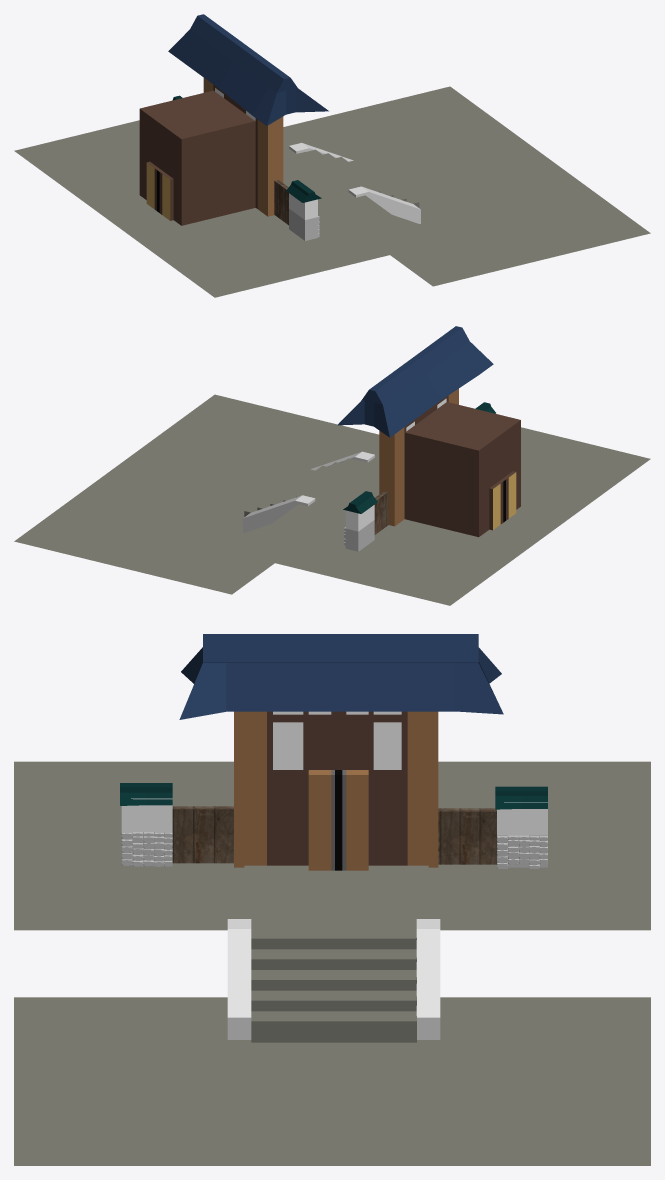
File: Japanse_kasteelingang.fbx
3 renders of one model, top to bottom at view 1: azimuth 30°, elevation 25°; view 2: azimuth 150°, elevation 25°; view 3: azimuth 270°, elevation 25°, orthographic. The views are drawn at different scales.
Visible parts, largest first — view 1: Plane.001, Plane, Cube.033, Cube.034, Cube.067, Cube.001, Cube.068, Cube.032, Cube.031; view 2: Plane.001, Plane, Cube.033, Cube.034, Cube.067, Cube.036, Cube.069, Cube.035, Cube.066; view 3: Plane.001, Plane, Cube.033, Cube.034, Cube.067, Cube.032, Cube.035, Cube.068, Cube.069, Cube.036, Cube.001, Cube.066 (+1 smaller).
Boxes of the visible parts, bbox=[...] form: Plane.001: bbox=[283, 86, 650, 286]; Plane: bbox=[14, 120, 432, 297]; Cube.033: bbox=[139, 78, 283, 225]; Cube.034: bbox=[168, 14, 328, 125]; Cube.067: bbox=[306, 149, 419, 207]; Cube.001: bbox=[289, 193, 317, 240]; Cube.068: bbox=[348, 186, 420, 223]; Cube.032: bbox=[274, 180, 288, 225]; Cube.031: bbox=[286, 180, 321, 202]; Plane.001: bbox=[14, 394, 379, 594]; Plane: bbox=[232, 427, 650, 605]; Cube.033: bbox=[379, 388, 520, 537]; Cube.034: bbox=[337, 326, 493, 437]; Cube.067: bbox=[244, 458, 357, 516]; Cube.036: bbox=[345, 505, 374, 551]; Cube.069: bbox=[243, 495, 315, 532]; Cube.035: bbox=[374, 491, 388, 534]; Cube.066: bbox=[343, 491, 377, 513]; Plane.001: bbox=[14, 997, 650, 1165]; Plane: bbox=[14, 761, 650, 930]; Cube.033: bbox=[234, 711, 438, 870]; Cube.034: bbox=[179, 634, 503, 719]; Cube.067: bbox=[251, 930, 416, 1042]; Cube.032: bbox=[172, 806, 233, 863]; Cube.035: bbox=[438, 808, 496, 864]; Cube.068: bbox=[227, 919, 251, 1039]; Cube.069: bbox=[416, 919, 440, 1039]; Cube.036: bbox=[497, 802, 547, 867]; Cube.001: bbox=[121, 798, 172, 864]; Cube.066: bbox=[495, 786, 547, 809].
Bounding box in the file's own units: 6764 × 2760 × 5394.
